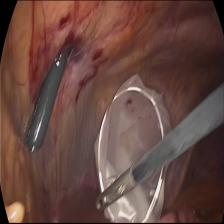Grasper: (92, 171, 142, 215)
Specimen Bag: (91, 74, 176, 224)
